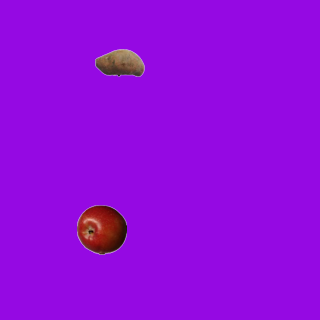Apple Braeburn: (76, 204, 126, 254)
Potato Sweet: (94, 37, 144, 87)
